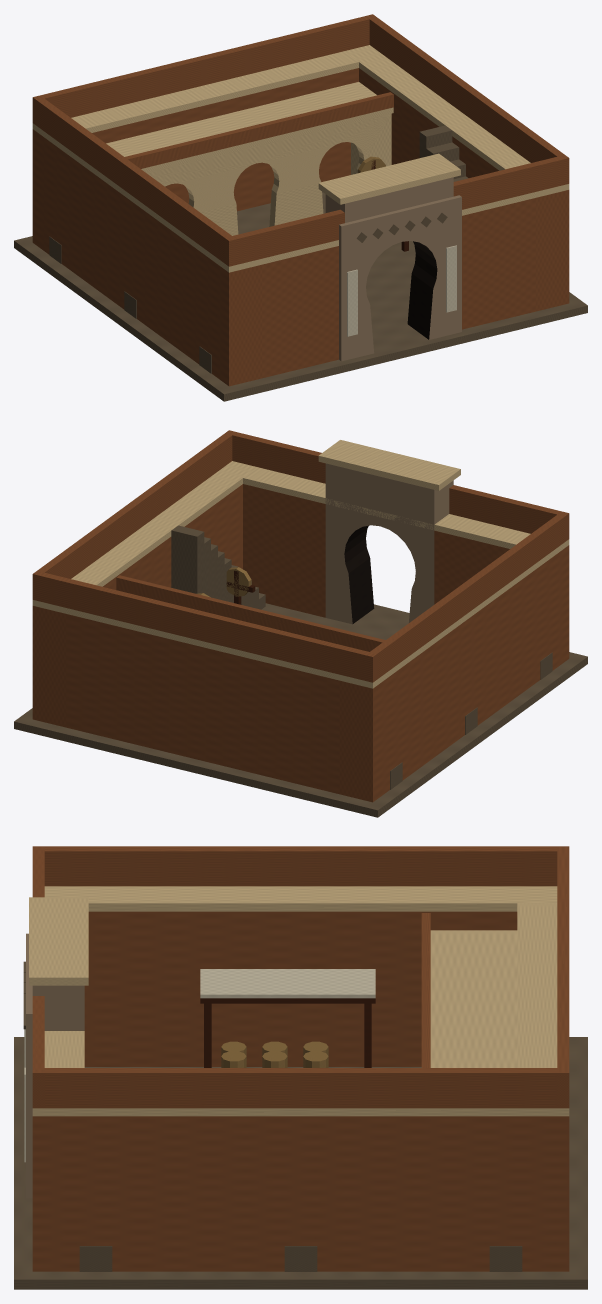
File: Berber_Marrakech_Age3.fbx
3 views of the same model, one above another, from view 1: azimuth 30°, elevation 25°; view 2: azimuth 150°, elevation 25°; view 3: azimuth 270°, elevation 25° (orthographic). The views are drawn at different scales.
Visible parts, largest first — view 1: side_rampart_-3.25, foundation, office_courtyard_arcade, cross_walk_parapet.002, gateway_carved_alfiz, front_rampart_-2.025, front_rampart_2.025, side_rampart_3.25, rear_rampart, outer_walk_parapet, office_flat_roof, outer_walk_parapet.001 (+12 smaller); view 2: rear_rampart, side_rampart_-3.25, grand_kasbah_gateway, foundation, cross_walk_parapet.002, front_rampart_2.025, side_rampart_3.25, outer_walk_parapet, outer_walk_parapet.001, side_wall_walk_3.25, office_roof_front_parapet, cross_wall_walk_-3.25 (+8 smaller); view 3: side_rampart_3.25, side_rampart_-3.25, outer_walk_parapet, outer_walk_parapet.001, foundation, side_wall_walk_-3.25, office_flat_roof, cross_wall_walk_3.25, gateway_stepped_cornice, store_owner_cloth_awning, side_wall_walk_3.25, cross_walk_parapet.002 (+10 smaller).
Boxes of the visible parts, left/top/right/bottom form: side_rampart_-3.25: left=32, top=129, right=262, bottom=386; foundation: left=14, top=191, right=587, bottom=401; office_courtyard_arcade: left=147, top=113, right=391, bottom=235; cross_walk_parapet.002: left=32, top=14, right=376, bottom=125; gateway_carved_alfiz: left=339, top=195, right=461, bottom=361; front_rampart_-2.025: left=262, top=246, right=338, bottom=378; front_rampart_2.025: left=462, top=198, right=536, bottom=329; side_rampart_3.25: left=359, top=68, right=569, bottom=311; rear_rampart: left=92, top=68, right=358, bottom=211; outer_walk_parapet: left=37, top=98, right=231, bottom=263; office_flat_roof: left=106, top=82, right=393, bottom=173; outer_walk_parapet.001: left=369, top=17, right=564, bottom=162; rear_rampart: left=65, top=614, right=339, bottom=794; side_rampart_-3.25: left=339, top=545, right=569, bottom=802; grand_kasbah_gateway: left=325, top=463, right=453, bottom=624; foundation: left=14, top=603, right=587, bottom=817; cross_walk_parapet.002: left=32, top=571, right=377, bottom=682; front_rampart_2.025: left=243, top=484, right=325, bottom=617; side_rampart_3.25: left=32, top=484, right=242, bottom=727; outer_walk_parapet: left=370, top=514, right=564, bottom=679; outer_walk_parapet.001: left=37, top=433, right=232, bottom=578; side_wall_walk_3.25: left=32, top=461, right=257, bottom=613; office_roof_front_parapet: left=116, top=575, right=385, bottom=651; cross_wall_walk_-3.25: left=243, top=467, right=530, bottom=548; side_rampart_3.25: left=32, top=1116, right=569, bottom=1271; side_rampart_-3.25: left=84, top=911, right=517, bottom=1066; outer_walk_parapet: left=44, top=846, right=557, bottom=886; outer_walk_parapet.001: left=44, top=1068, right=557, bottom=1108; foundation: left=14, top=1037, right=587, bottom=1289; side_wall_walk_-3.25: left=44, top=886, right=557, bottom=911; office_flat_roof: left=430, top=930, right=517, bottom=1067; cross_wall_walk_3.25: left=517, top=903, right=557, bottom=1067; gateway_stepped_cornice: left=29, top=897, right=88, bottom=985; store_owner_cloth_awning: left=200, top=969, right=375, bottom=998; side_wall_walk_3.25: left=32, top=1108, right=569, bottom=1116; cross_walk_parapet.002: left=557, top=846, right=569, bottom=1108.
Bounding box in the file's own units: 770 × 342 × 770.
7 materials, 7 textured.
